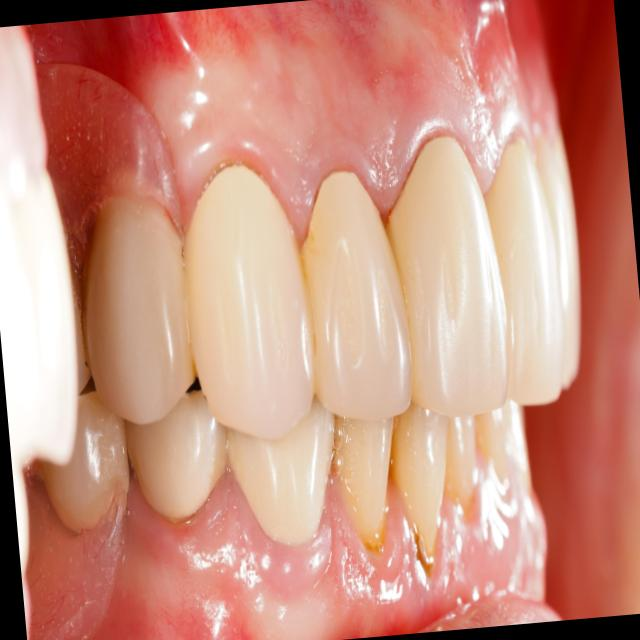Tooth: (181, 163, 315, 439), (385, 137, 508, 417), (82, 167, 196, 425), (298, 169, 411, 419), (483, 136, 562, 405), (227, 390, 334, 545), (125, 389, 227, 519), (38, 389, 129, 532), (536, 136, 581, 387), (389, 398, 448, 571), (332, 413, 394, 551), (445, 415, 476, 511), (502, 397, 532, 491), (474, 407, 506, 483)
